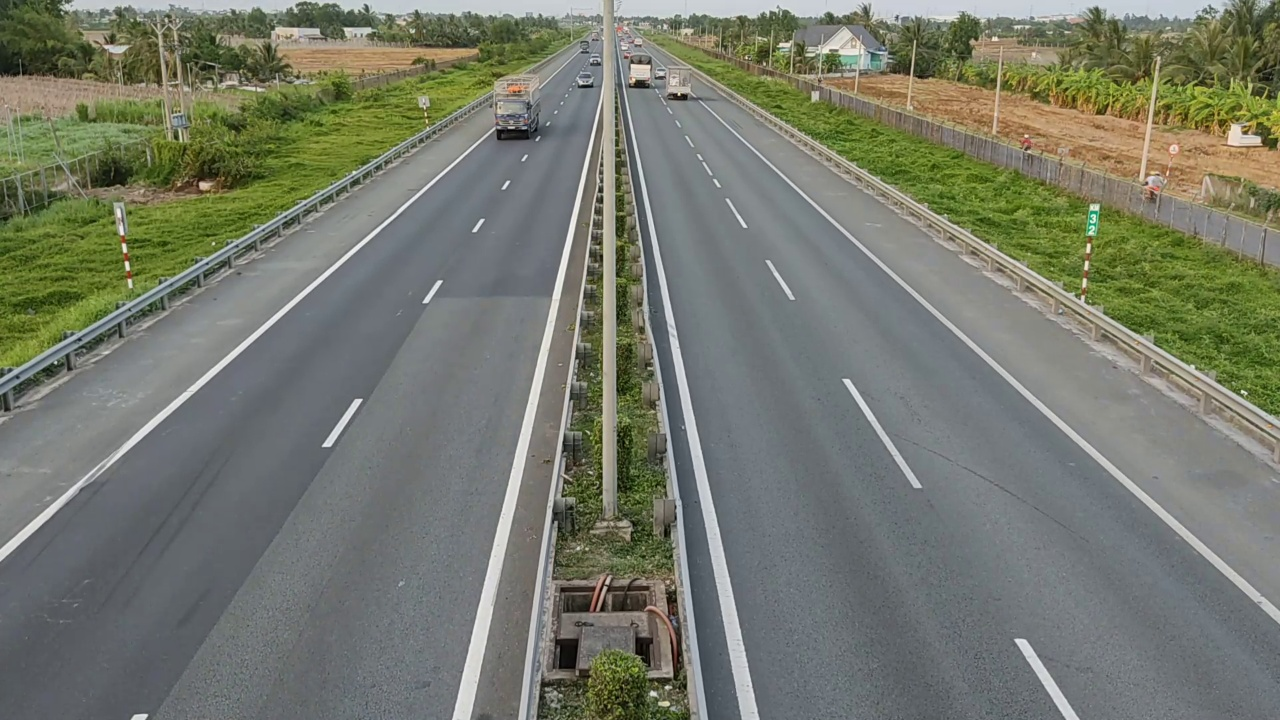car: (577, 71, 595, 87)
truck: (486, 68, 545, 143), (665, 67, 691, 99)
